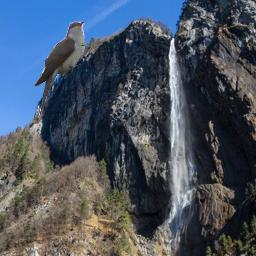Cuckoo: (34, 21, 85, 120)
